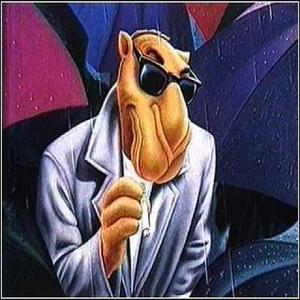cigarette: (138, 181, 152, 239)
